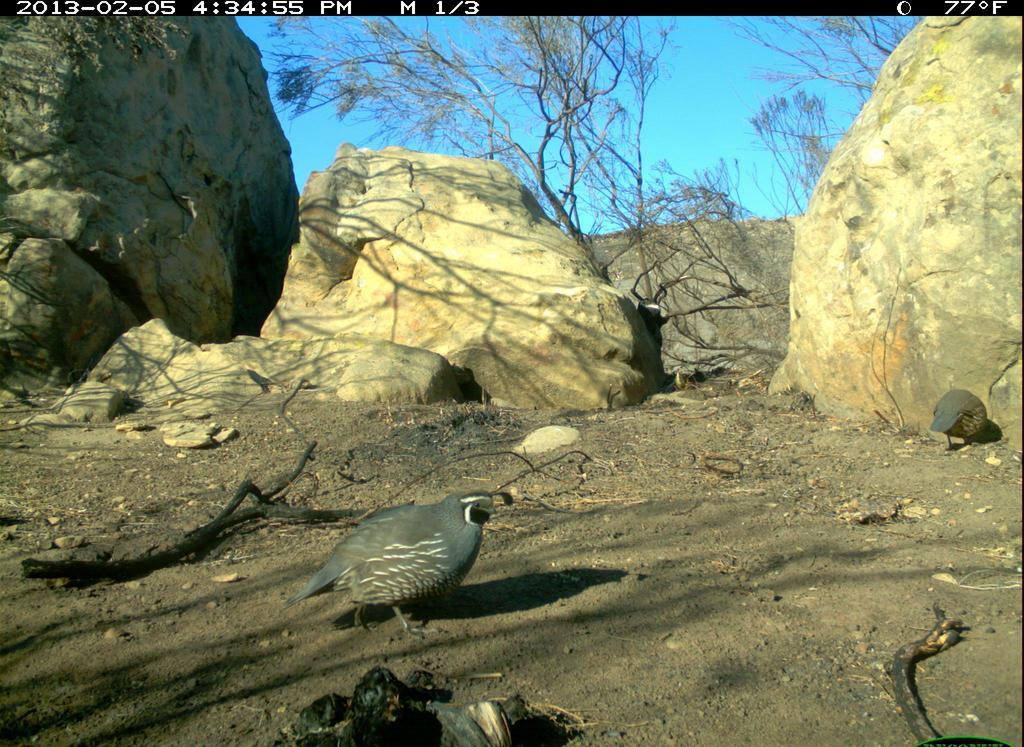bird: (289, 479, 529, 641)
